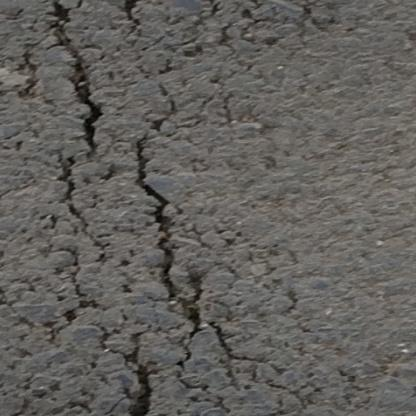Cracks: (132, 130, 269, 396), (41, 0, 108, 159), (90, 320, 170, 416), (54, 151, 118, 269), (52, 245, 104, 328)
